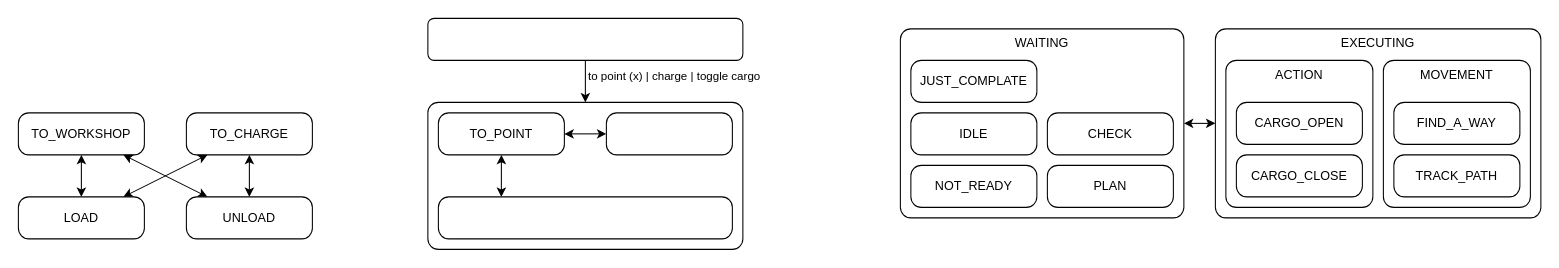
This 1559x268 diagram has some shape labels left out. The shapes that lost their labels are listed below. From the top down, each one's centre as x and y in pixels, then its label:
At (585,38): "TASK_COMMANDER".
At (668,133): "CHARGE".
At (584,217): "CARGO_HOLDING".
